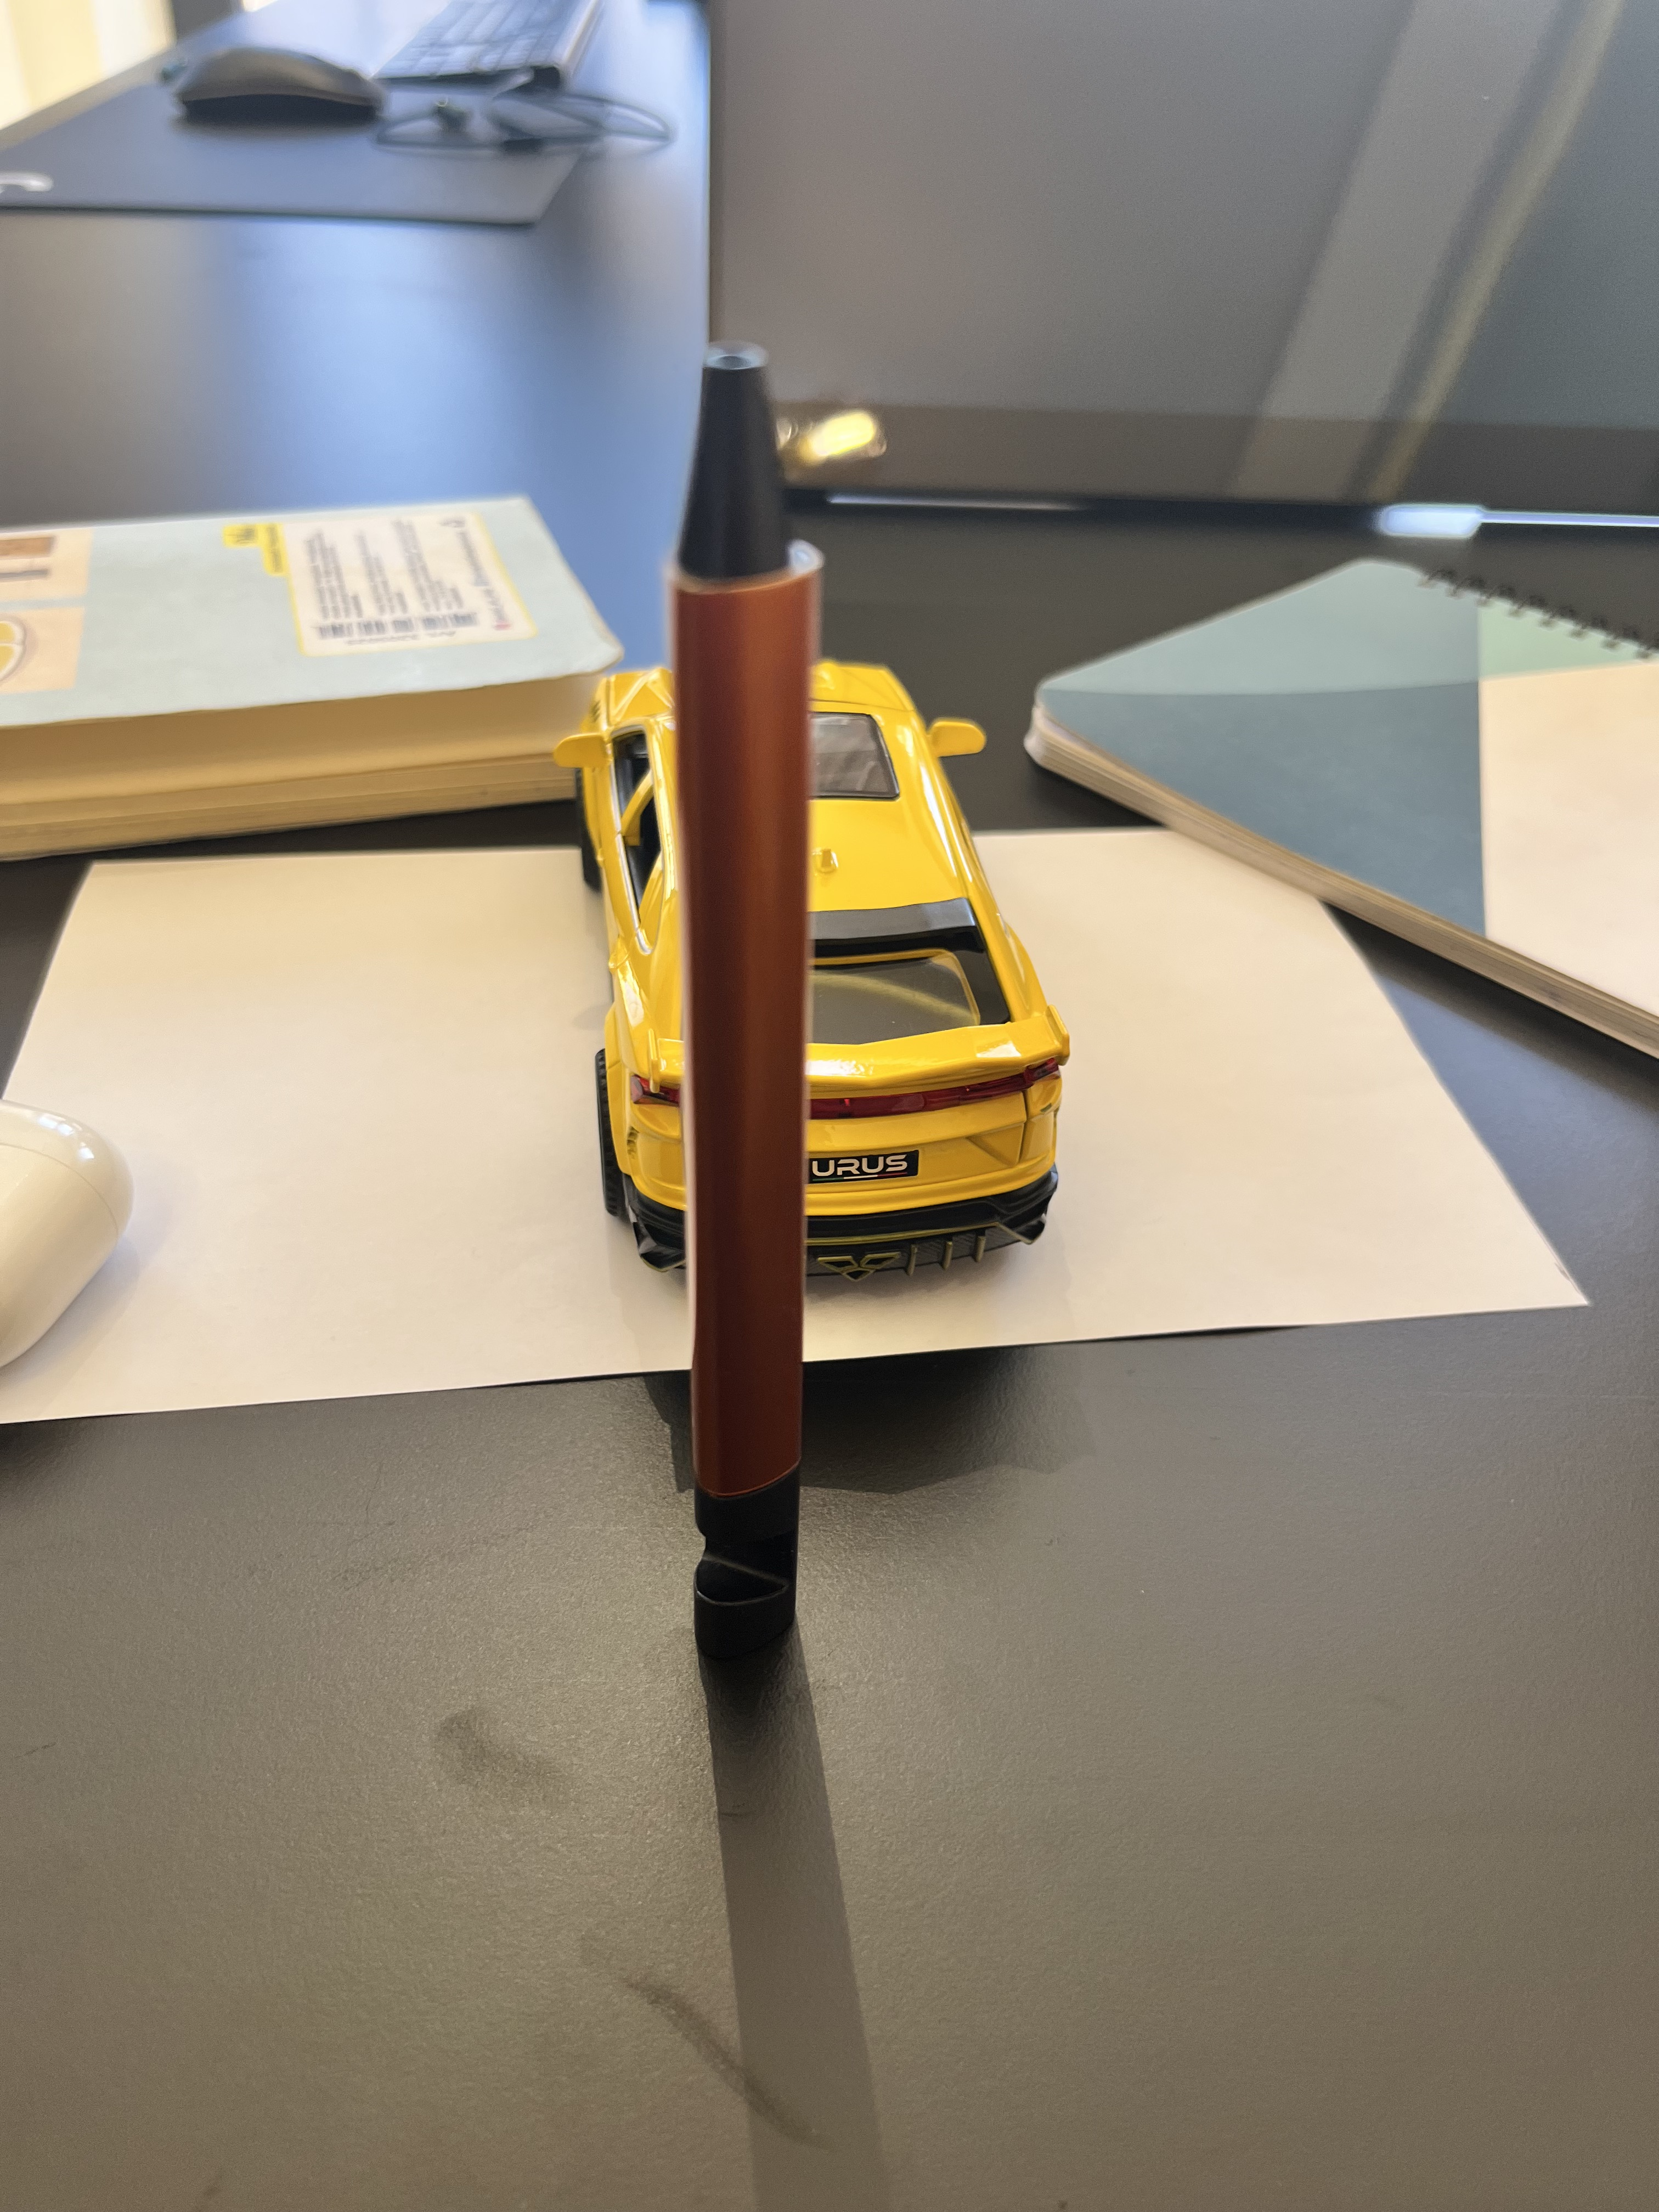lambo: (545, 662, 1070, 1287)
